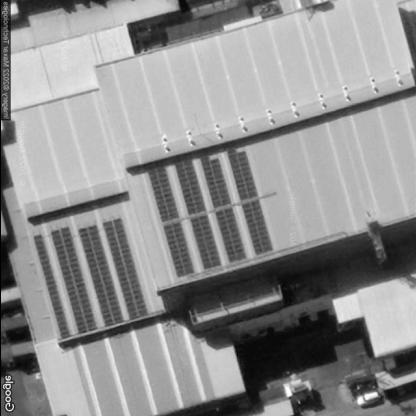solar-pv-panel: (197, 152, 246, 263), (146, 165, 193, 278), (225, 145, 272, 254), (174, 159, 220, 269), (51, 225, 94, 335), (76, 225, 122, 326), (101, 217, 146, 319), (32, 232, 69, 339)
